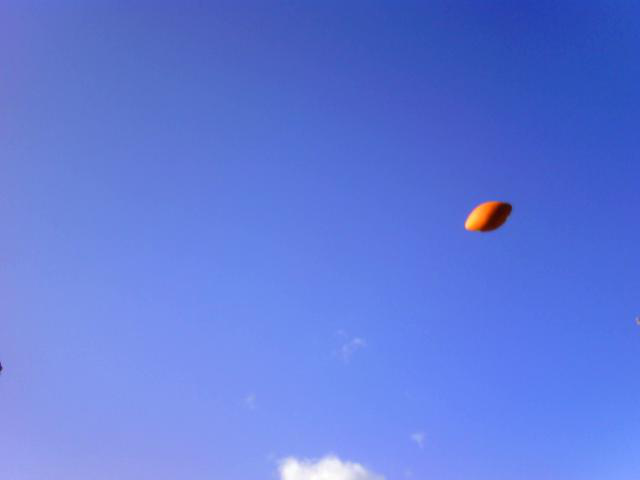football: (460, 193, 519, 240)
